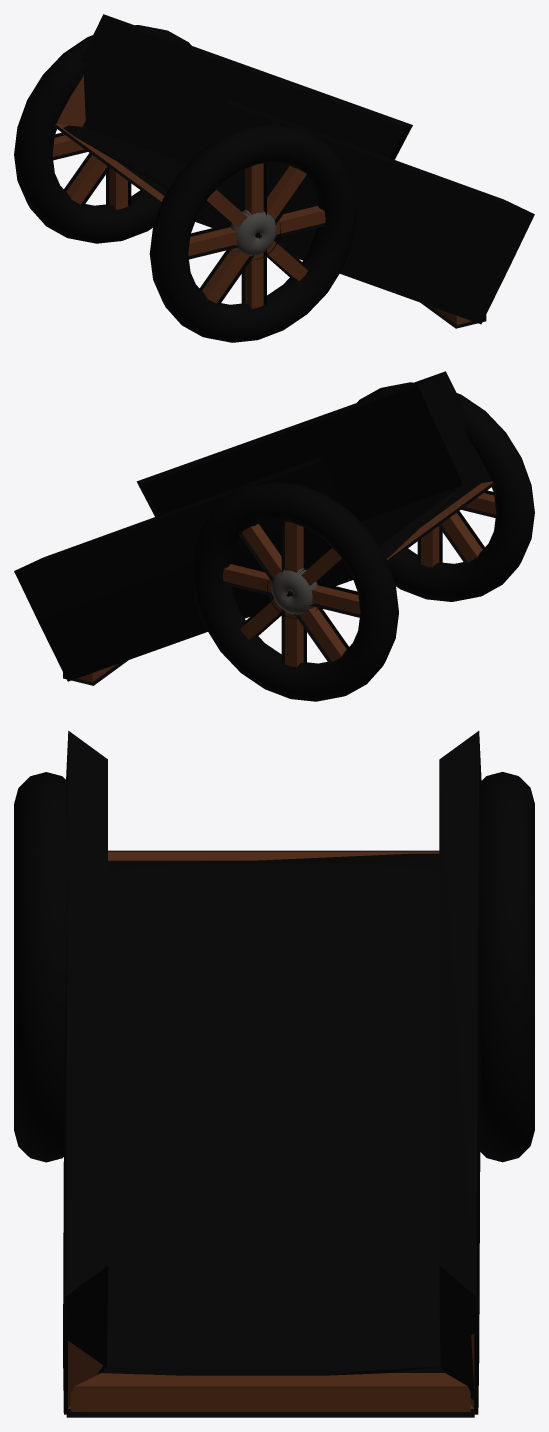
File: ramp no edge.FBX
3 views of the same model, one above another, from view 1: azimuth 30°, elevation 25°; view 2: azimuth 150°, elevation 25°; view 3: azimuth 270°, elevation 25° (orthographic). The views are drawn at different scales.
Visible parts, largest first — view 1: Box002, Box001; view 2: Box002, Box001; view 3: Box002, Box001.
Boxes of the visible parts, <box> form: Box002: <box>14,14,534,342</box>; Box001: <box>52,74,471,324</box>; Box002: <box>14,371,534,701</box>; Box001: <box>77,481,496,682</box>; Box002: <box>14,730,534,1417</box>; Box001: <box>68,851,474,1411</box>.
Bounding box in the file's own units: 18.09 × 12.54 × 12.47.
